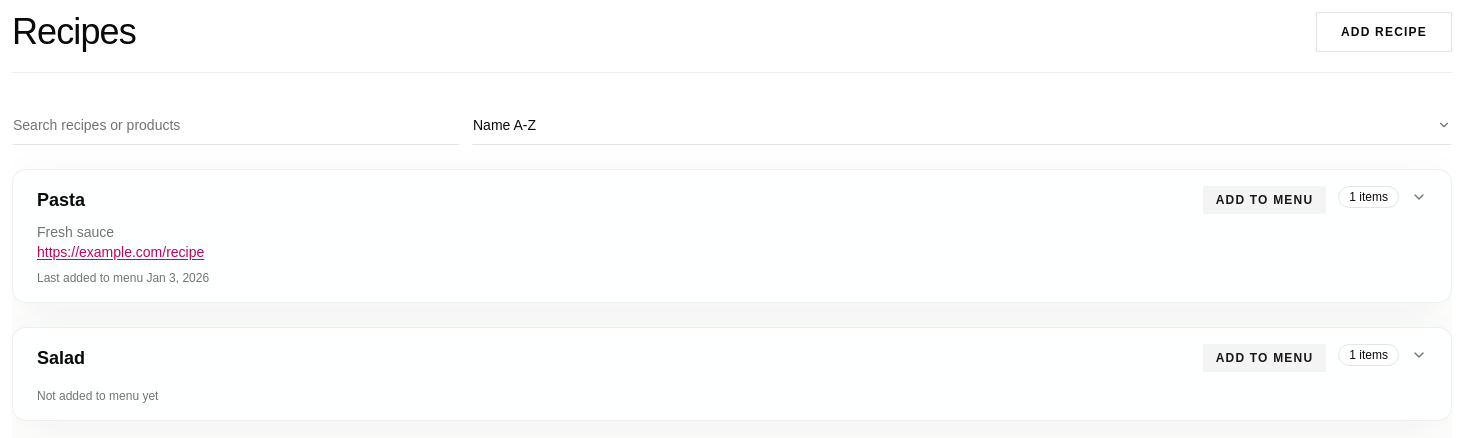
Test: RecipesPage › shows loading only on the recipe action that is pending
Click the 1st button "Add to menu": (1265, 200) x1=1203 y1=186 x2=1326 y2=214
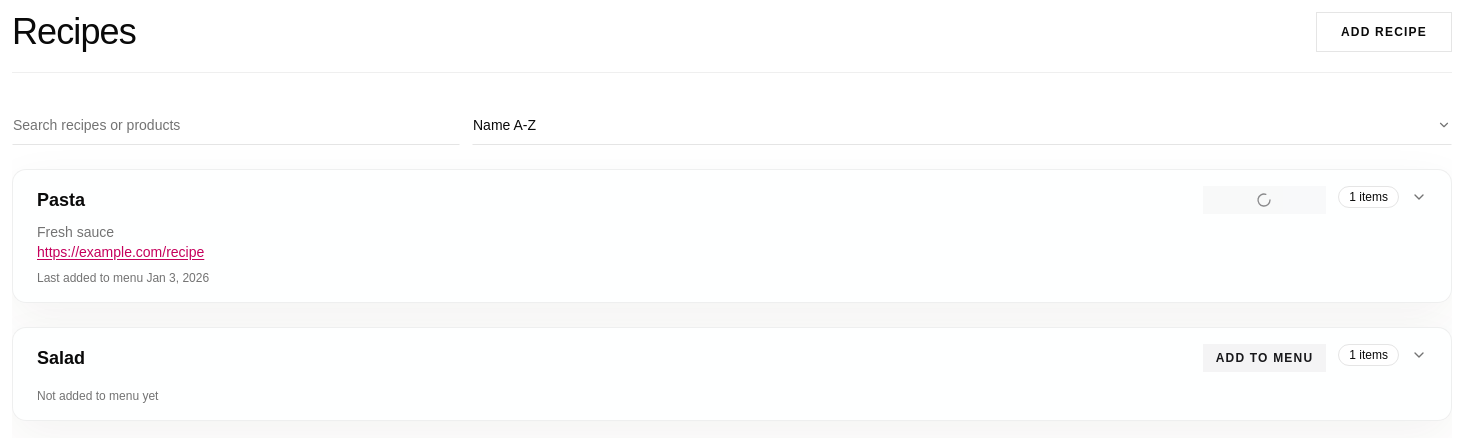
Expected: the button "Add to menu" is enabled, x1=1203 y1=344 x2=1326 y2=372
Result: the button named "Add to menu" is disabled at x1=1203 y1=186 x2=1326 y2=214
